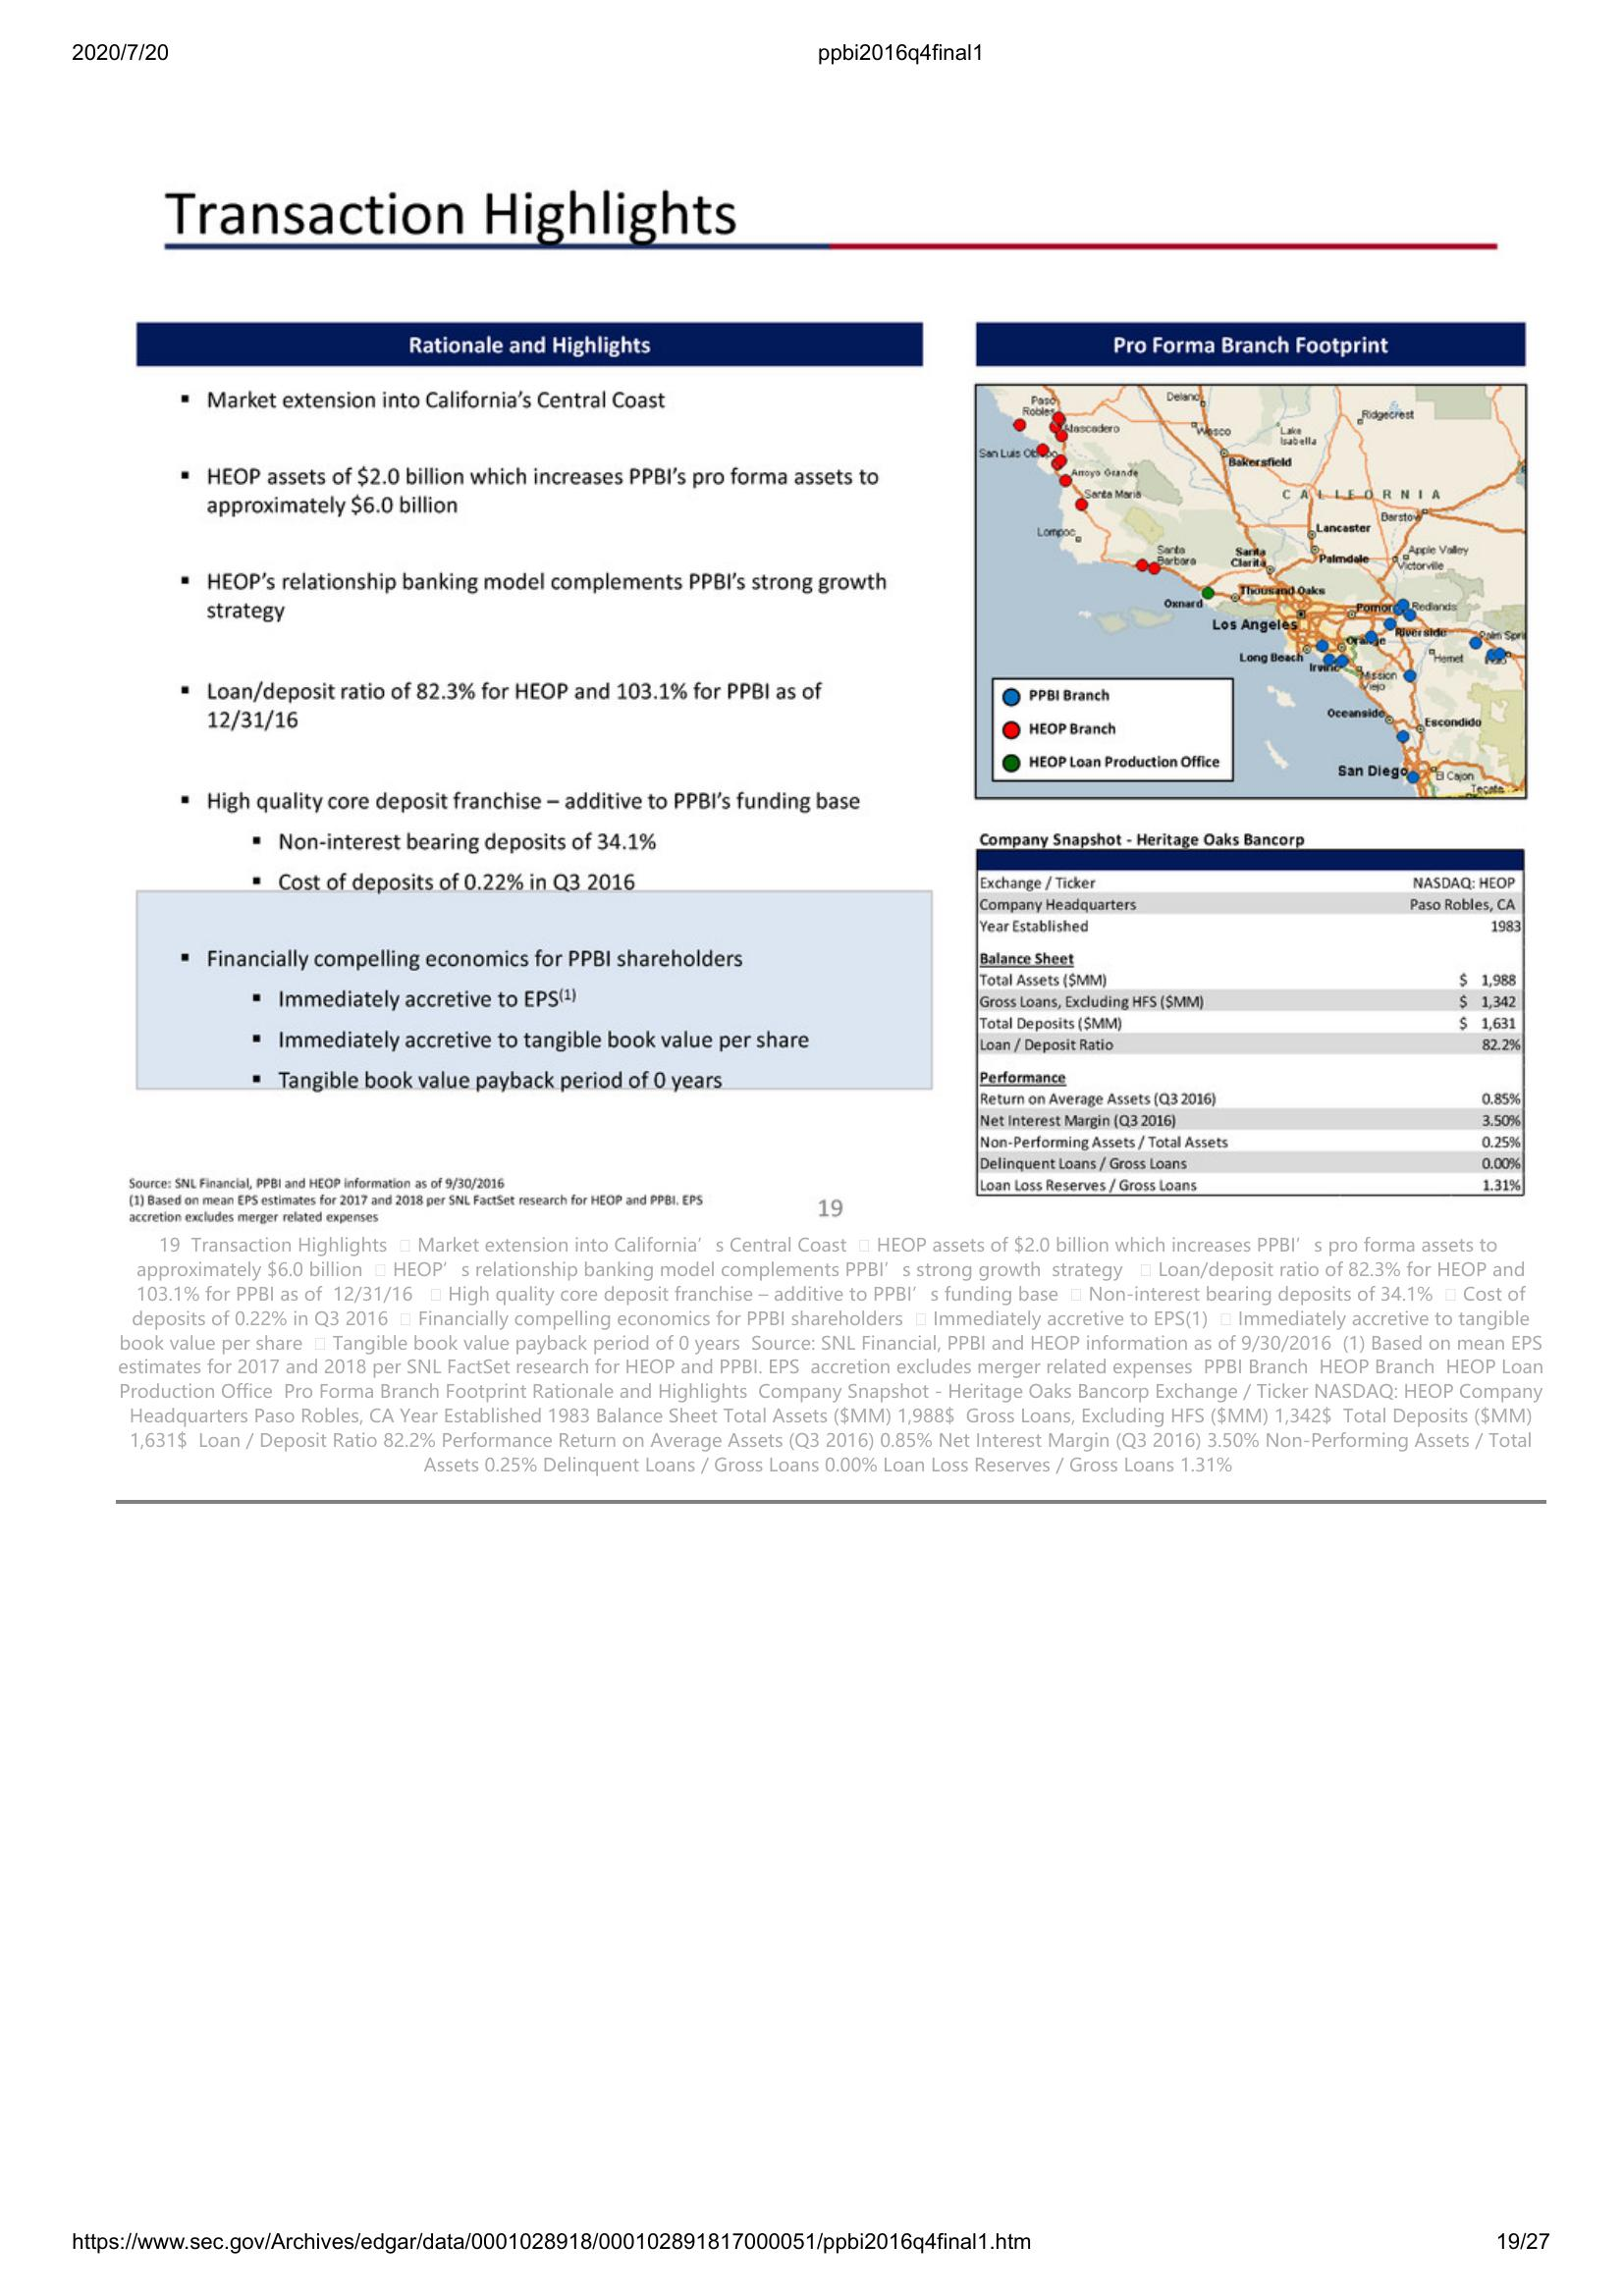table: (977, 829, 1526, 1206)
